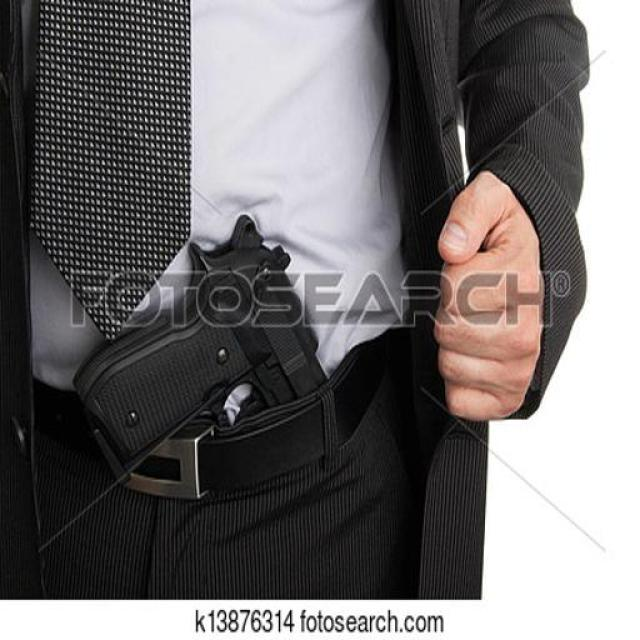pistol: (69, 220, 353, 482)
